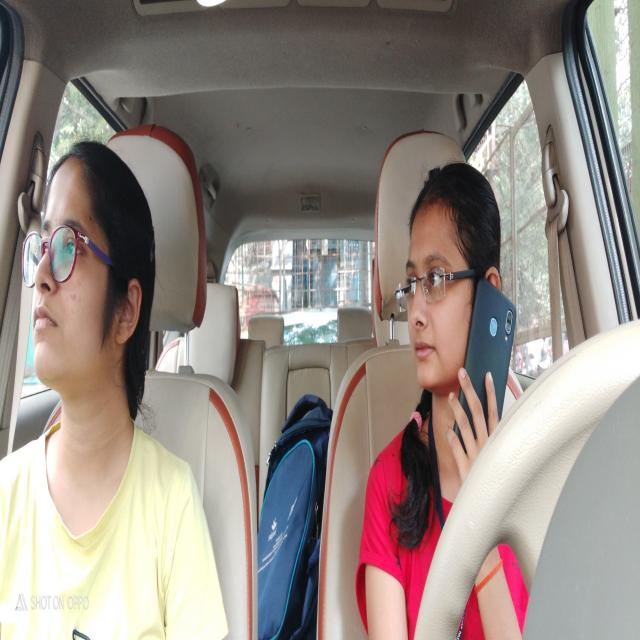mobile: (449, 265, 519, 457)
person: (14, 120, 168, 450), (389, 146, 526, 474)
